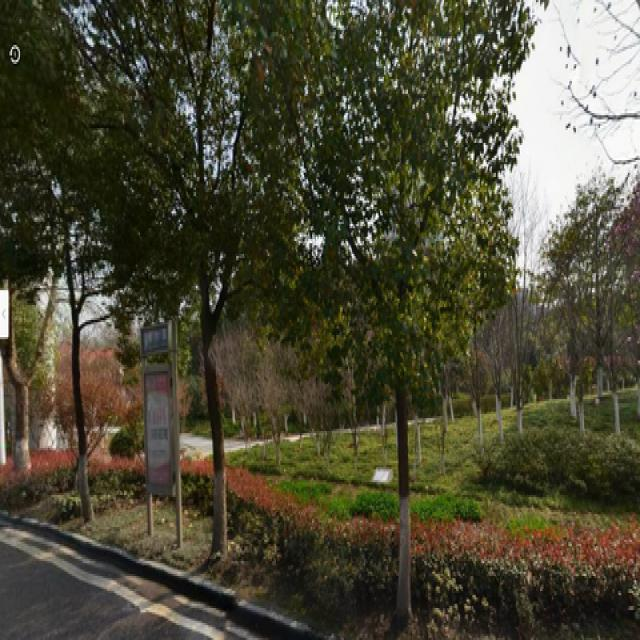cinn: (125, 19, 300, 555), (352, 9, 479, 563)
